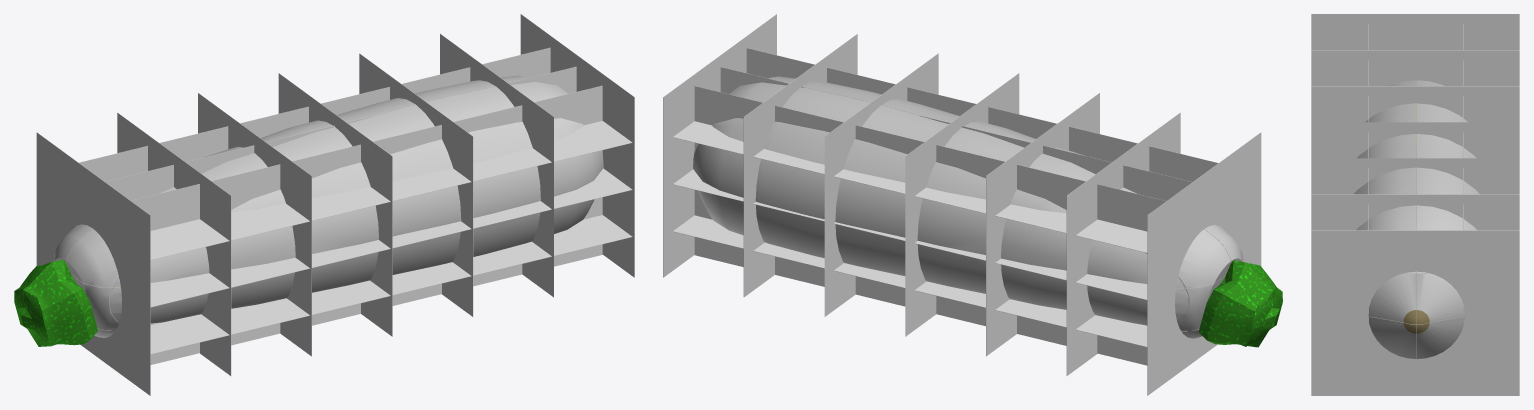
The model's file is ZuchiniFertig2 1.fbx.
3 renders of one model, left to right at view 1: azimuth 30°, elevation 25°; view 2: azimuth 150°, elevation 25°; view 3: azimuth 270°, elevation 25°, orthographic. The views are drawn at different scales.
Visible parts, largest first — view 1: R_Schnitt1, Stumpf, R_Schnitt7, R_Schnitt2, R_Schnitt3, R_Schnitt4, R_Schnitt6, R_Schnitt5, R4L4H2, R5L4H2, R3L4H2, R2L4H2 (+59 smaller); view 2: R_Schnitt1, Stumpf, R_Schnitt7, R_Schnitt2, R_Schnitt3, R_Schnitt4, R_Schnitt6, R_Schnitt5, R4L1H2, R5L1H2, R3L1H2, R2L1H2 (+56 smaller); view 3: R_Schnitt7, R_Schnitt1, R_Schnitt2, StumpHinten, R_Schnitt3, R_Schnitt4, R_Schnitt6, R_Schnitt5, R5L2H1, R5L3H1, R6L2H1, R4L2H1 (+4 smaller).
Part boxes in pixels (x1=…): R_Schnitt1: x1=36, y1=132, x2=150, y2=395; Stumpf: x1=14, y1=224, x2=121, y2=346; R_Schnitt7: x1=520, y1=14, x2=634, y2=277; R_Schnitt2: x1=117, y1=112, x2=231, y2=375; R_Schnitt3: x1=198, y1=93, x2=311, y2=356; R_Schnitt4: x1=278, y1=73, x2=392, y2=336; R_Schnitt6: x1=440, y1=33, x2=553, y2=297; R_Schnitt5: x1=359, y1=53, x2=473, y2=316; R4L4H2: x1=392, y1=185, x2=461, y2=236; R5L4H2: x1=473, y1=166, x2=540, y2=217; R3L4H2: x1=312, y1=205, x2=378, y2=253; R2L4H2: x1=231, y1=226, x2=295, y2=269; R_Schnitt1: x1=1147, y1=132, x2=1261, y2=395; Stumpf: x1=1175, y1=225, x2=1282, y2=347; R_Schnitt7: x1=663, y1=14, x2=776, y2=277; R_Schnitt2: x1=1066, y1=112, x2=1180, y2=375; R_Schnitt3: x1=986, y1=93, x2=1099, y2=356; R_Schnitt4: x1=905, y1=73, x2=1019, y2=336; R_Schnitt6: x1=743, y1=34, x2=857, y2=297; R_Schnitt5: x1=824, y1=53, x2=938, y2=316; R4L1H2: x1=835, y1=178, x2=905, y2=237; R5L1H2: x1=755, y1=159, x2=824, y2=219; R3L1H2: x1=917, y1=198, x2=985, y2=255; R2L1H2: x1=1001, y1=219, x2=1066, y2=270; R_Schnitt7: x1=1311, y1=230, x2=1519, y2=395; R_Schnitt1: x1=1311, y1=14, x2=1519, y2=49; R_Schnitt2: x1=1311, y1=50, x2=1519, y2=85; StumpHinten: x1=1368, y1=271, x2=1464, y2=359; R_Schnitt3: x1=1311, y1=86, x2=1519, y2=122; R_Schnitt4: x1=1311, y1=122, x2=1519, y2=158; R_Schnitt6: x1=1311, y1=194, x2=1519, y2=230; R_Schnitt5: x1=1311, y1=158, x2=1519, y2=194; R5L2H1: x1=1416, y1=167, x2=1463, y2=194; R5L3H1: x1=1369, y1=167, x2=1415, y2=194; R6L2H1: x1=1416, y1=205, x2=1463, y2=230; R4L2H1: x1=1416, y1=134, x2=1463, y2=158.
Bounding box in the file's own units: 435 × 130 × 149.
